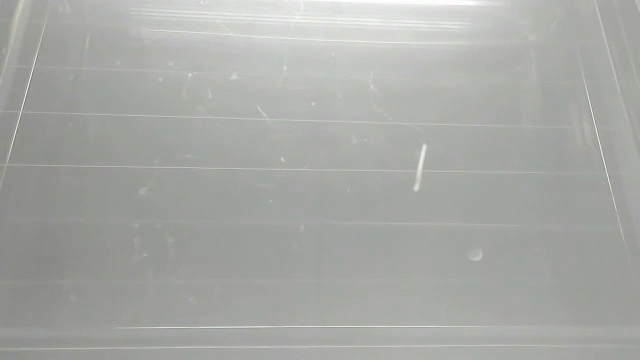alpha: (410, 141, 432, 195), (464, 243, 488, 266)
